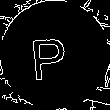P_N: (34, 28, 76, 82)
